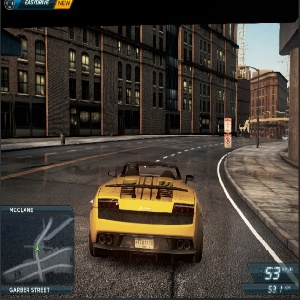building: (240, 65, 288, 139)
garbage: (58, 131, 68, 147)
lamp post: (239, 65, 264, 149)
road sign: (223, 116, 233, 171)
